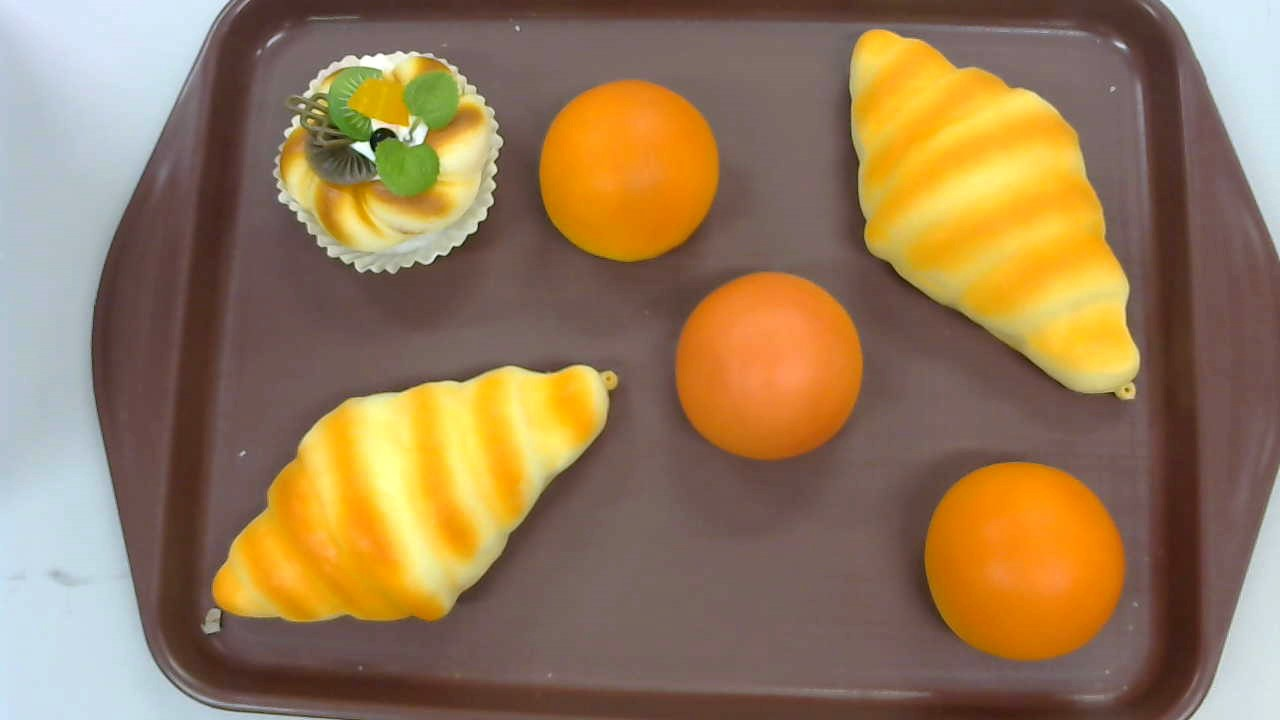bun: (924, 460, 1126, 661), (675, 271, 863, 460), (538, 80, 719, 264)
croissant: (849, 29, 1141, 398), (211, 366, 616, 623)
fruit tart: (273, 51, 503, 277)
